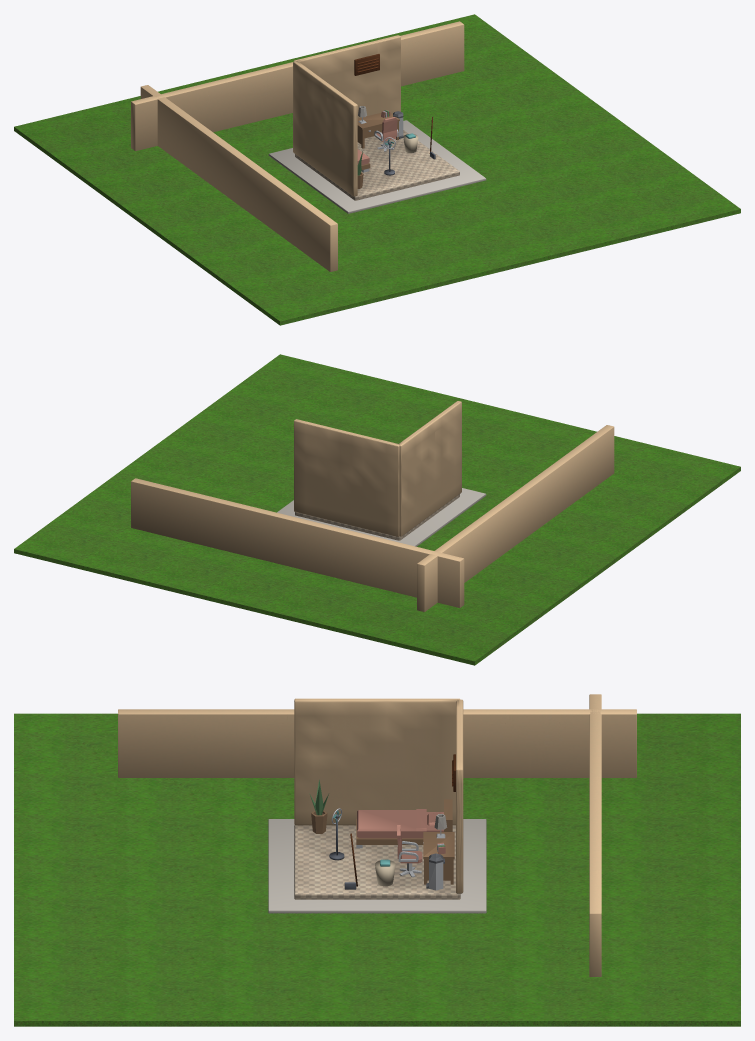
File: kamar_art_small.glb
3 views of the same model, one above another, from view 1: azimuth 30°, elevation 25°; view 2: azimuth 150°, elevation 25°; view 3: azimuth 270°, elevation 25° (orthographic). The views are drawn at different scales.
Parts seen in each view (by area): view 1: OuterYard, YardFenceBack, YardFenceLeft, WallLeft, WallBack, FloorSlab, YardPatio, desk(Clone); view 2: OuterYard, YardFenceBack, WallBack, YardFenceLeft, WallLeft, YardPatio, FloorSlab; view 3: OuterYard, YardFenceLeft, WallLeft, FloorSlab, YardPatio, YardFenceBack, cover, WallBack, desk(Clone), bedSingle(Clone), trashcan(Clone), chair.
Boxes of the visible parts, x1,y1,x2,y2 form: OuterYard: (14,14,740,325); YardFenceBack: (131,21,464,151); YardFenceLeft: (140,85,337,271); WallLeft: (293,61,357,196); WallBack: (294,35,400,118); FloorSlab: (295,130,459,200); YardPatio: (268,120,486,213); desk(Clone): (357,112,399,148); OuterYard: (14,354,740,665); YardFenceBack: (131,478,464,607); WallBack: (294,419,399,536); YardFenceLeft: (417,425,614,611); WallLeft: (399,401,461,536); YardPatio: (277,488,486,546); FloorSlab: (295,494,459,540); OuterYard: (14,713,740,1026); YardFenceLeft: (118,709,636,777); WallLeft: (294,698,460,825); FloorSlab: (294,825,460,899); YardPatio: (268,819,486,913); YardFenceBack: (589,694,601,976); cover: (357,809,426,837); WallBack: (456,699,463,893); desk(Clone): (423,832,454,884); bedSingle(Clone): (356,799,452,848); trashcan(Clone): (426,853,444,890); chair: (397,825,422,863).
Size of the model in its own units: 14 by 2.95 by 14.
Materials: 30 (5 with a texture image).
